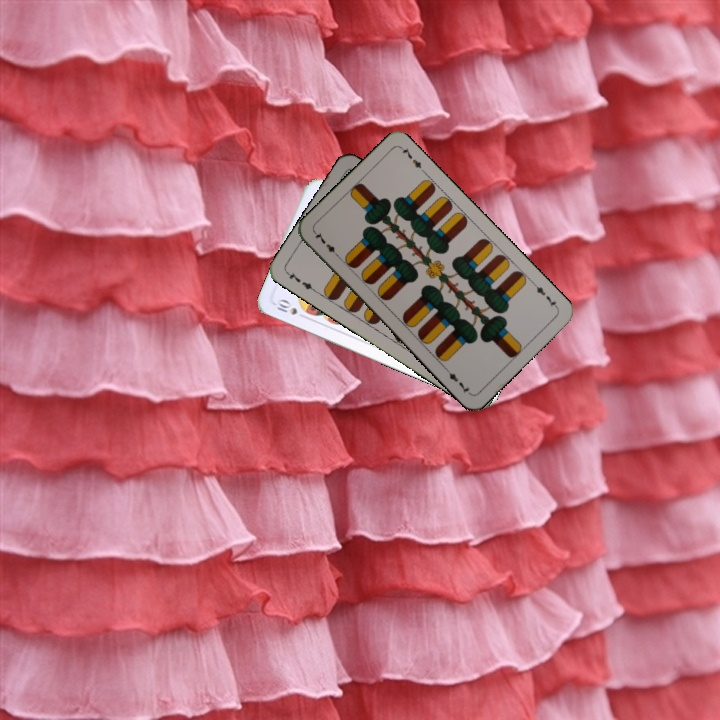E7: (529, 278, 561, 311), (311, 228, 342, 260), (283, 268, 319, 295)
S10: (273, 296, 309, 320)
